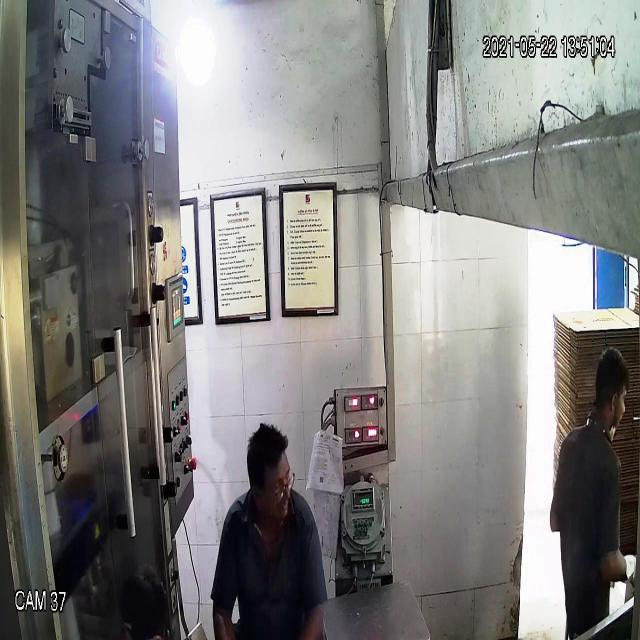glasses: (249, 466, 297, 509)
